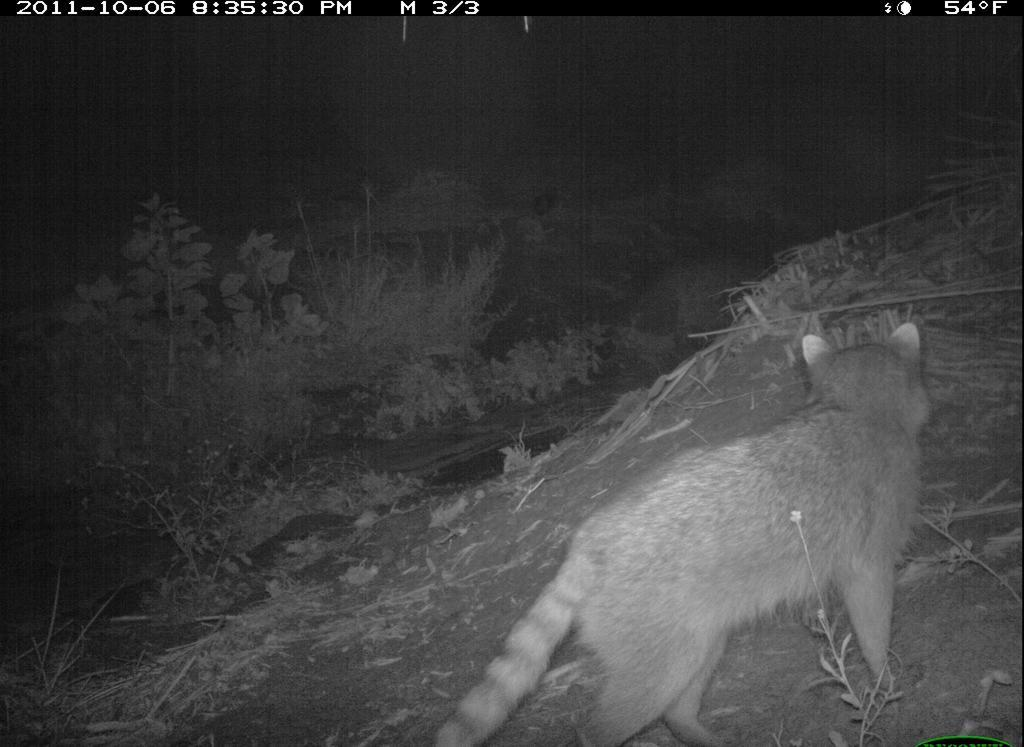raccoon: (434, 309, 932, 747)
